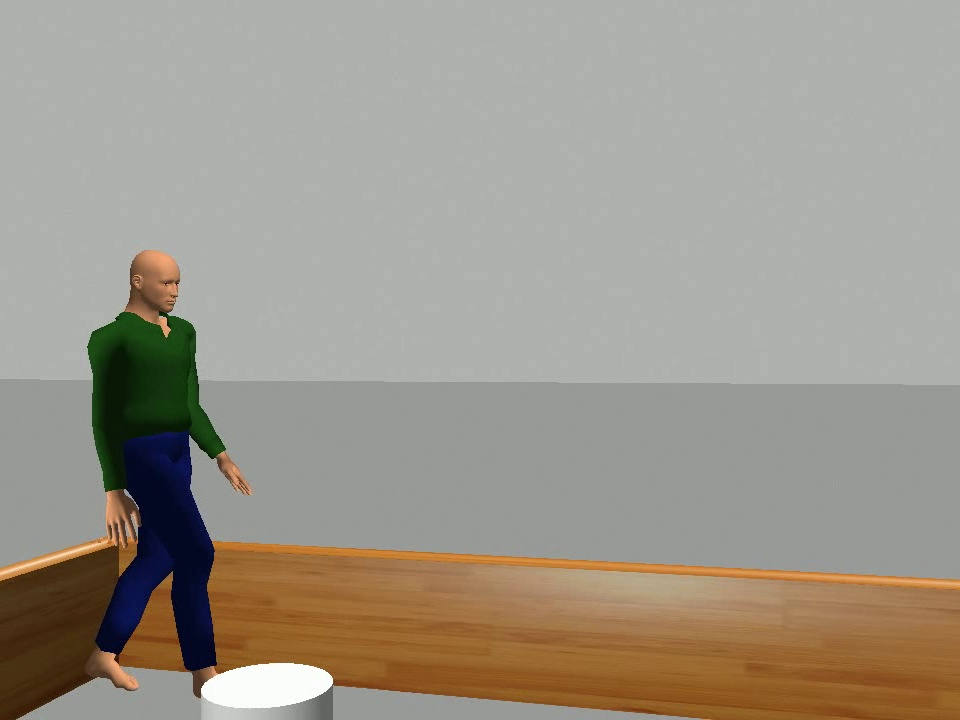person: (82, 248, 256, 707)
